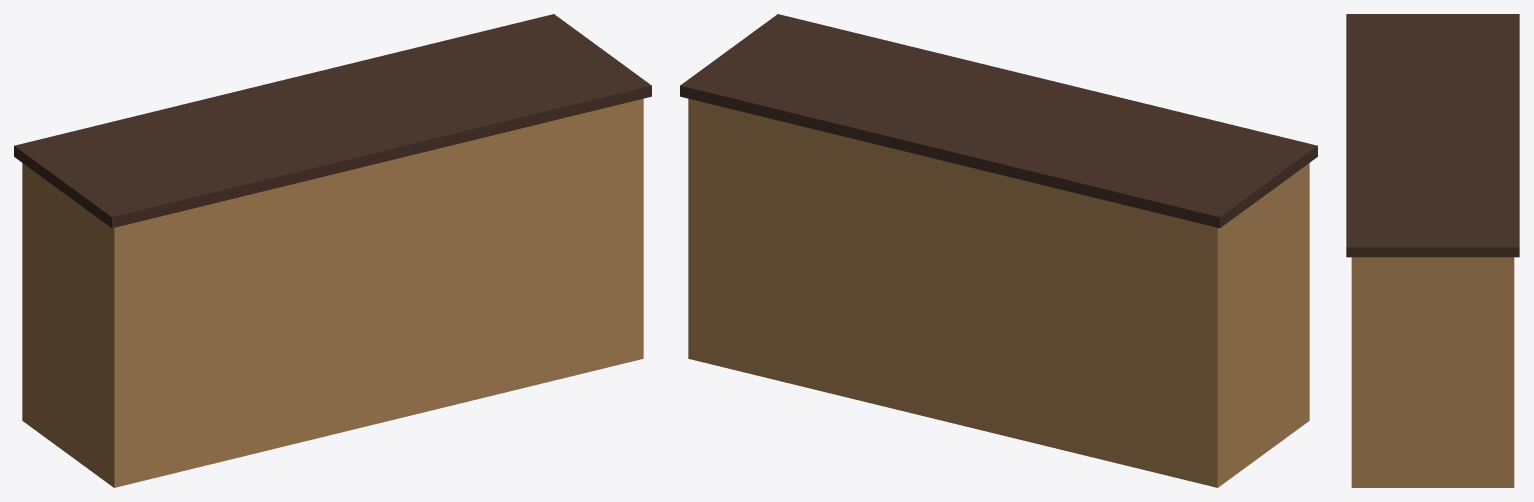
3 views of the same model, side by side, from view 1: azimuth 30°, elevation 25°; view 2: azimuth 150°, elevation 25°; view 3: azimuth 270°, elevation 25° (orthographic). The views are drawn at different scales.
Parts seen in each view (by area): view 1: beverage_station; view 2: beverage_station; view 3: beverage_station.
Part boxes in pixels (x1=…): beverage_station: x1=14, y1=14, x2=651, y2=487; beverage_station: x1=680, y1=14, x2=1317, y2=487; beverage_station: x1=1346, y1=14, x2=1519, y2=487.
Size of the model in its own units: 2.04 by 0.64 by 0.99.
